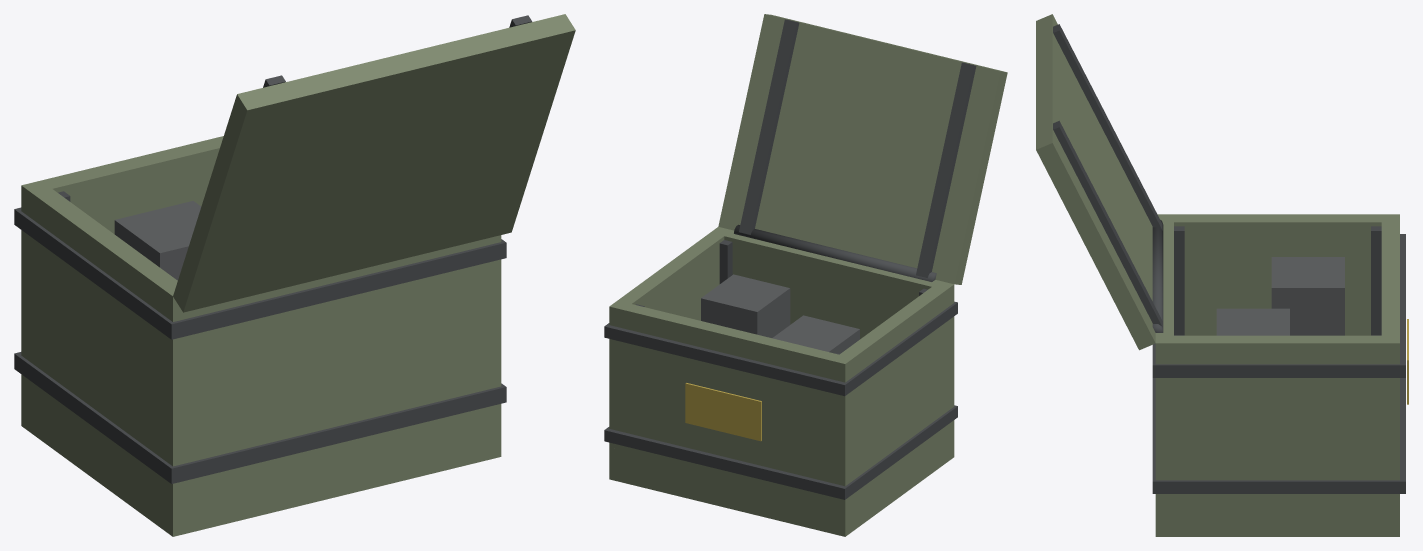
The model's file is storage_crate_open.glb.
The picture shows the model from 3 angles, left to right: view 1: azimuth 30°, elevation 25°; view 2: azimuth 150°, elevation 25°; view 3: azimuth 270°, elevation 25°; orthographic projection. The views are drawn at different scales.
Visible parts, largest first — view 1: storage_crate_open; view 2: storage_crate_open; view 3: storage_crate_open.
Boxes of the visible parts, x1,y1,x2,y2 form: storage_crate_open: (14, 14, 575, 536); storage_crate_open: (604, 14, 1007, 536); storage_crate_open: (1036, 14, 1408, 536).
Bounding box in the file's own units: 1.02 × 1.44 × 1.22.
